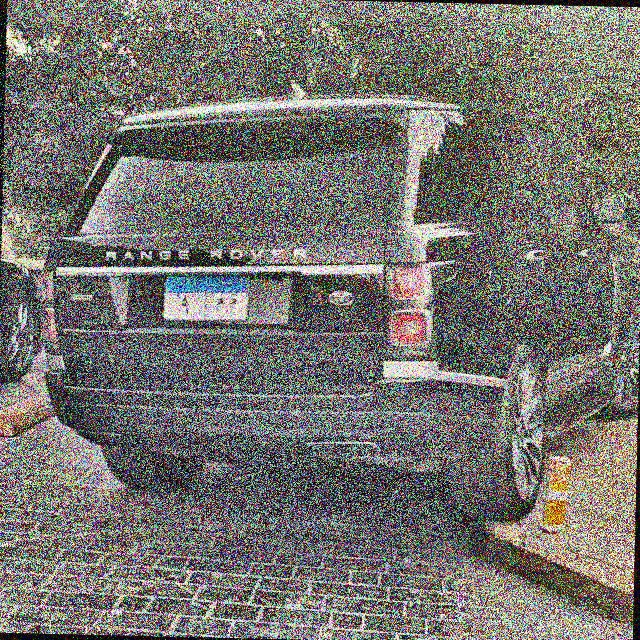License Plate: (160, 271, 251, 325)
